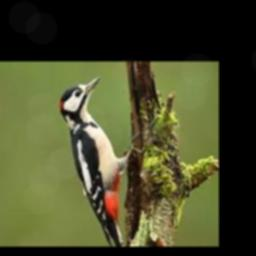Woodpecker: (60, 75, 145, 247)
